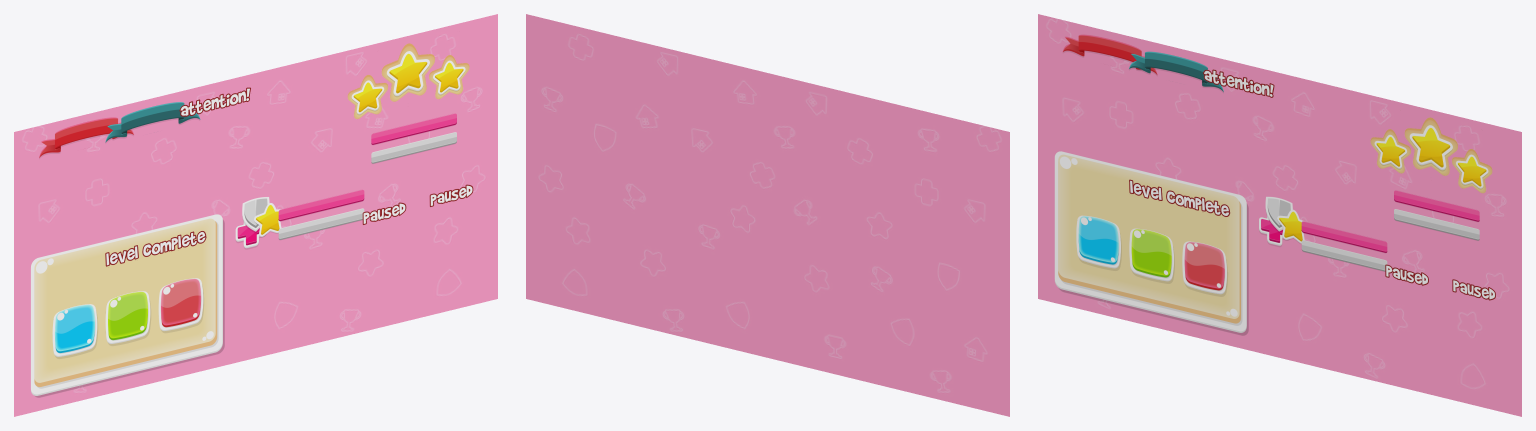
The picture shows the model from 3 angles, left to right: view 1: azimuth 30°, elevation 25°; view 2: azimuth 150°, elevation 25°; view 3: azimuth 330°, elevation 25°; orthographic projection.
Parts seen in each view (by area): view 1: bg, wnd_ui1 (×2), wnd_ui2_bt, clip_fg, lin2 (×2), lin1 (×2), clip_bg, jelem2, jelem1, alpha_blink_test, ao_el2, ao_el1 (+3 smaller); view 2: bg; view 3: bg, wnd_ui1 (×2), wnd_ui2_bt, clip_fg, lin2 (×2), lin1 (×2), clip_bg, jelem2, jelem1, alpha_blink_test, ao_el1, ao_el2 (+2 smaller).
Part boxes in pixels (box(x1,y1,x2,y2)): bg: box(14, 14, 497, 416); wnd_ui1 (×2): box(31, 214, 222, 396); wnd_ui2_bt: box(52, 278, 203, 356); clip_fg: box(351, 51, 465, 114); lin2 (×2): box(278, 113, 456, 221); lin1 (×2): box(278, 132, 456, 239); clip_bg: box(347, 43, 469, 118); jelem2: box(105, 102, 200, 142); jelem1: box(39, 117, 133, 157); alpha_blink_test: box(179, 87, 250, 116); ao_el2: box(242, 197, 269, 231); ao_el1: box(254, 203, 281, 236); bg: box(526, 14, 1009, 416); bg: box(1038, 14, 1521, 416); wnd_ui1 (×2): box(1054, 151, 1246, 332); wnd_ui2_bt: box(1076, 215, 1227, 294); clip_fg: box(1374, 125, 1488, 188); lin2 (×2): box(1301, 190, 1479, 252); lin1 (×2): box(1301, 209, 1479, 271); clip_bg: box(1370, 117, 1492, 193); jelem2: box(1129, 51, 1223, 92); jelem1: box(1062, 34, 1157, 75); alpha_blink_test: box(1203, 69, 1274, 97); ao_el1: box(1277, 209, 1304, 243); ao_el2: box(1265, 196, 1292, 231).
Bounding box in the file's own units: 19.2 × 10.8 × 0.0483.
19 materials, 19 textured.
